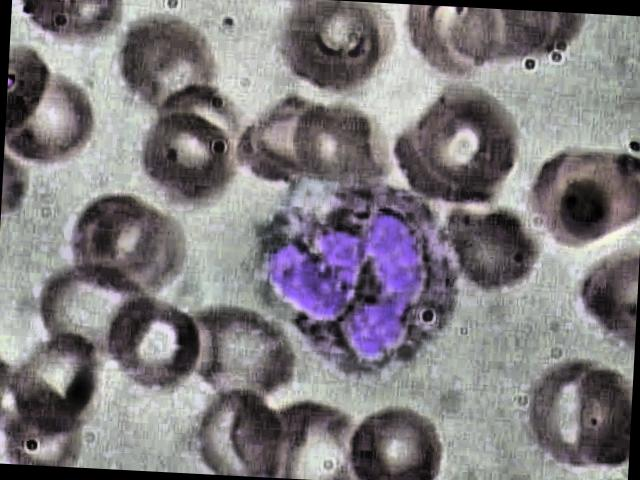RBC: (390, 88, 530, 200), (104, 13, 226, 122), (277, 0, 398, 106), (102, 290, 208, 396), (4, 68, 110, 174), (444, 200, 536, 293), (346, 405, 457, 480)
WBC: (248, 170, 470, 388)
